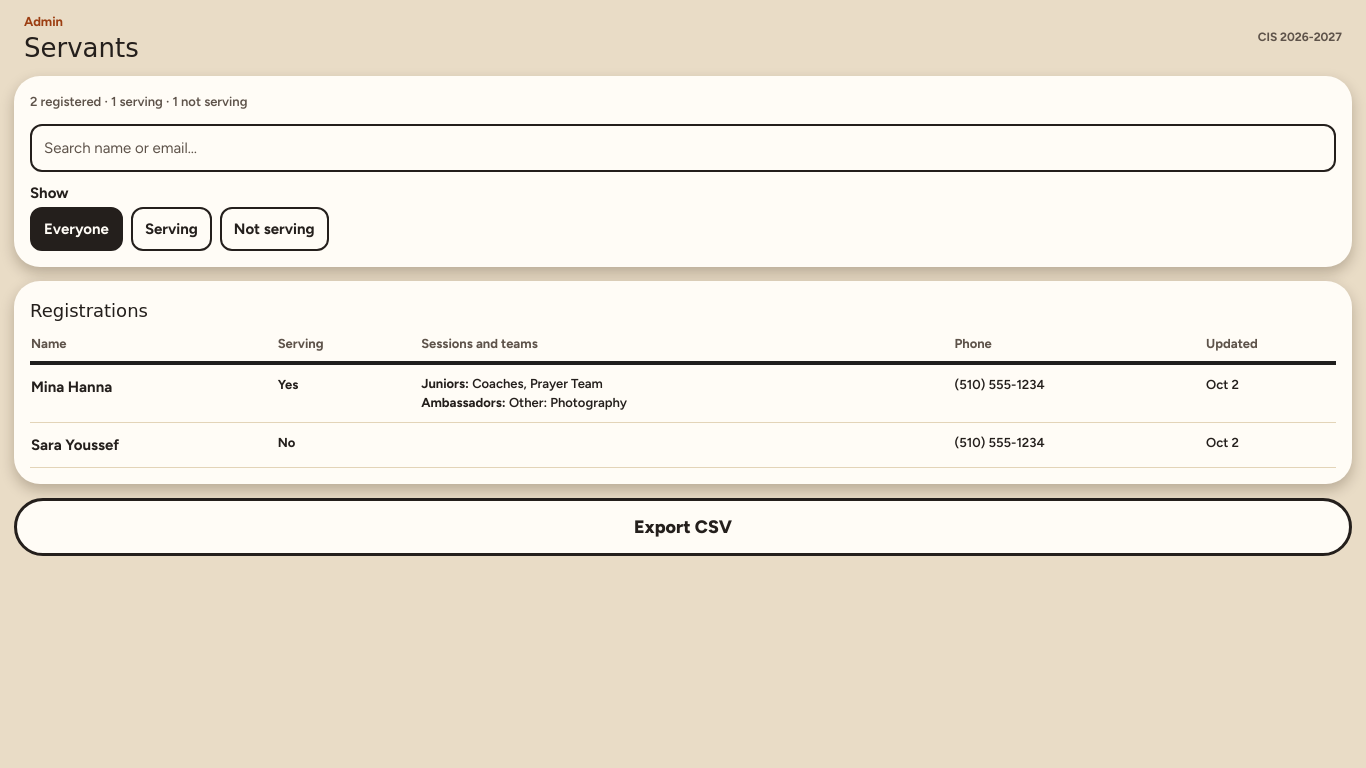
Admin servants list › searches by name or email
Type "sara@" into the search field named "Search servants" at (683, 148), box [30, 124, 1336, 172]
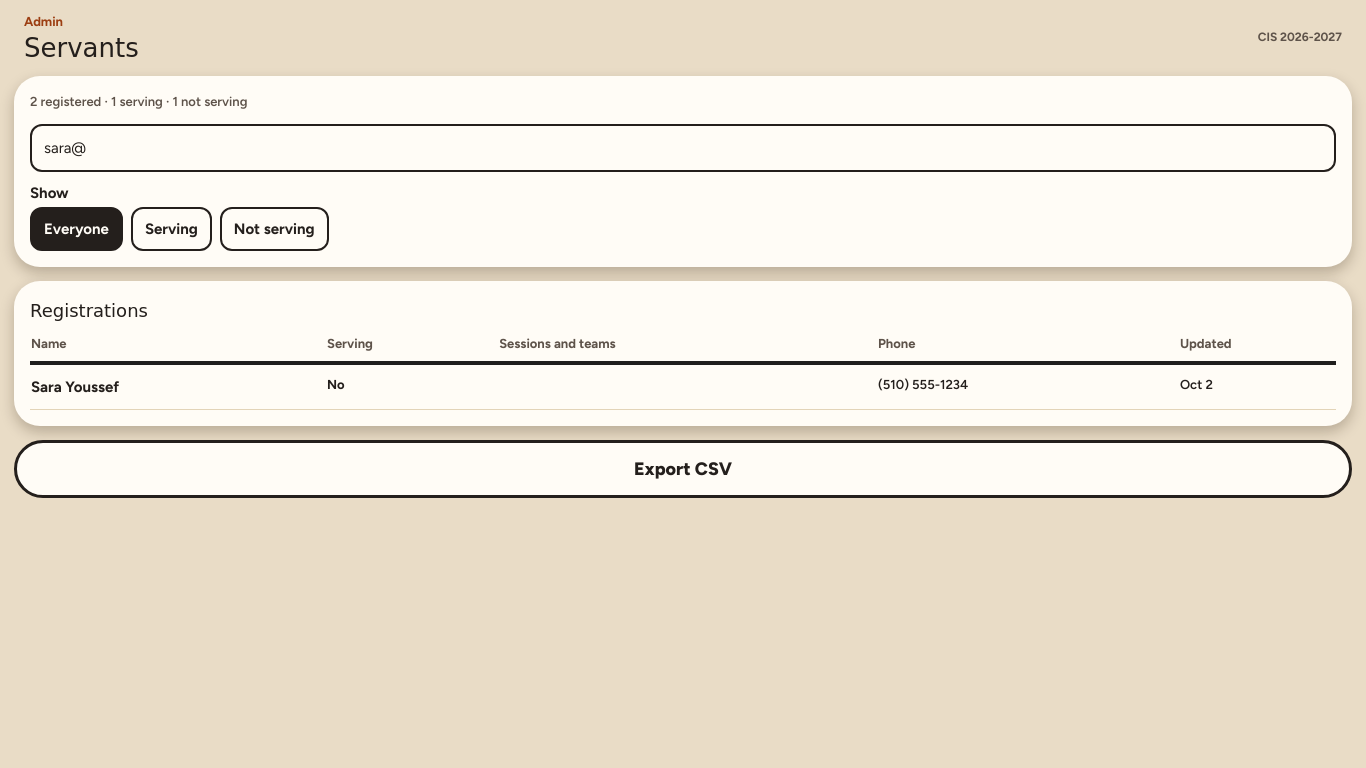
Expected: the button "Sara Youssef" is shown, [31, 378, 119, 398]
Now the button "Mina Hanna" is gone
